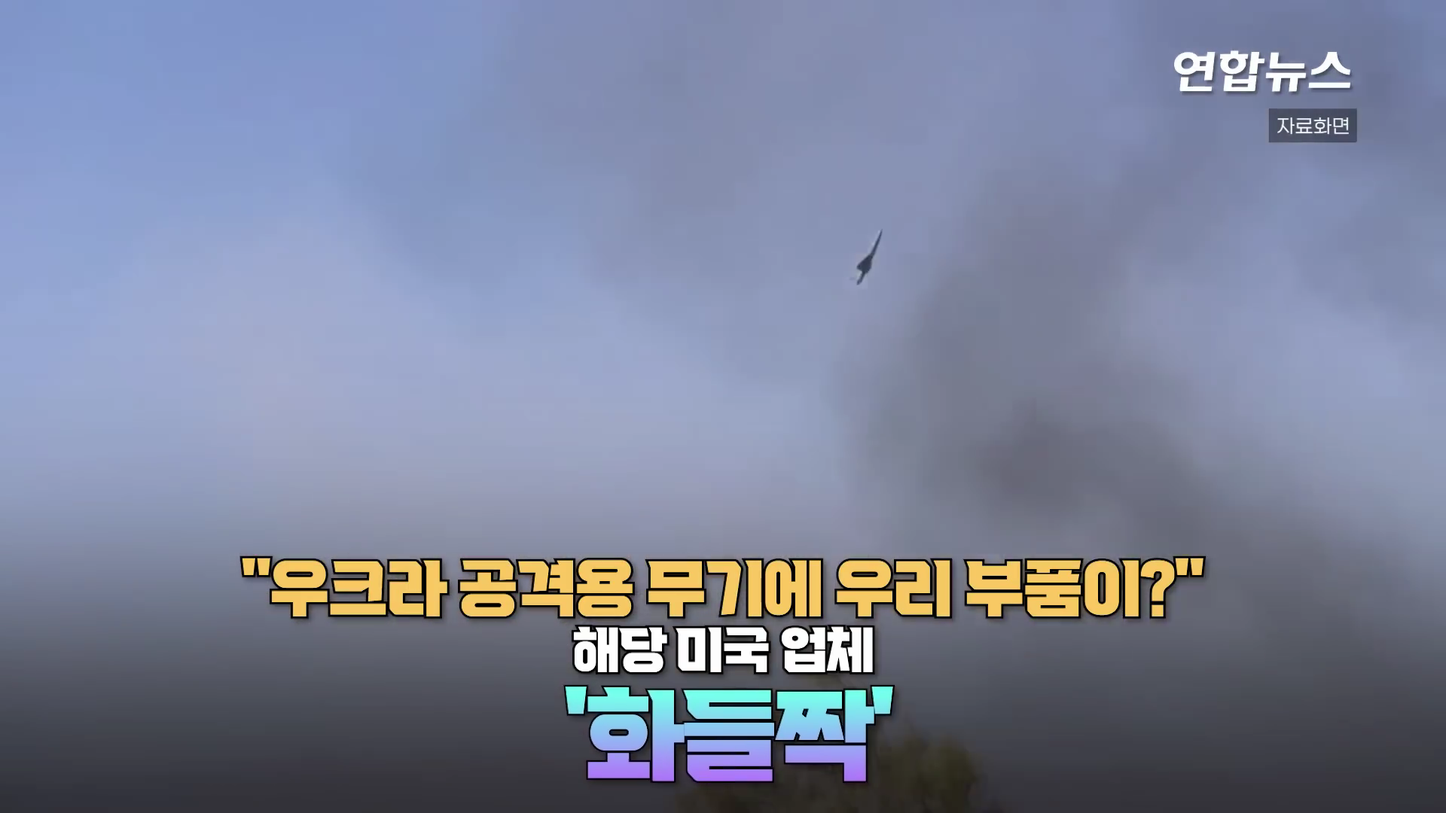shahed: (853, 227, 887, 288)
